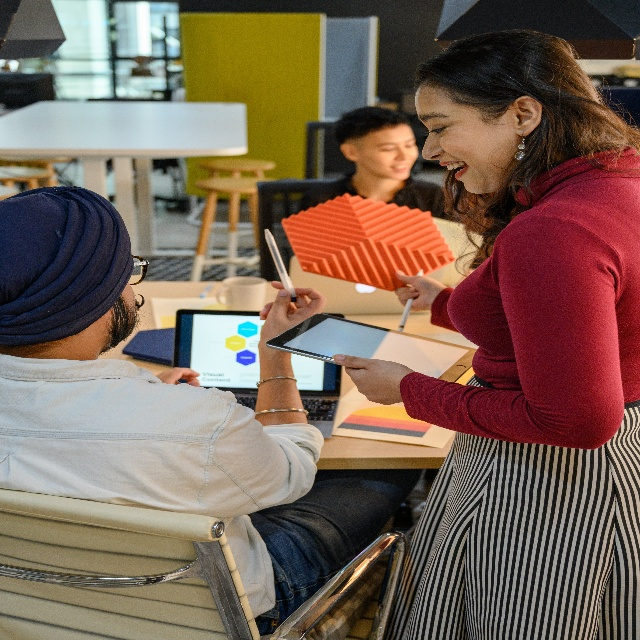Gafas: (129, 251, 148, 286)
Sin_guantes: (257, 277, 326, 358), (331, 353, 409, 409), (394, 268, 444, 312)
